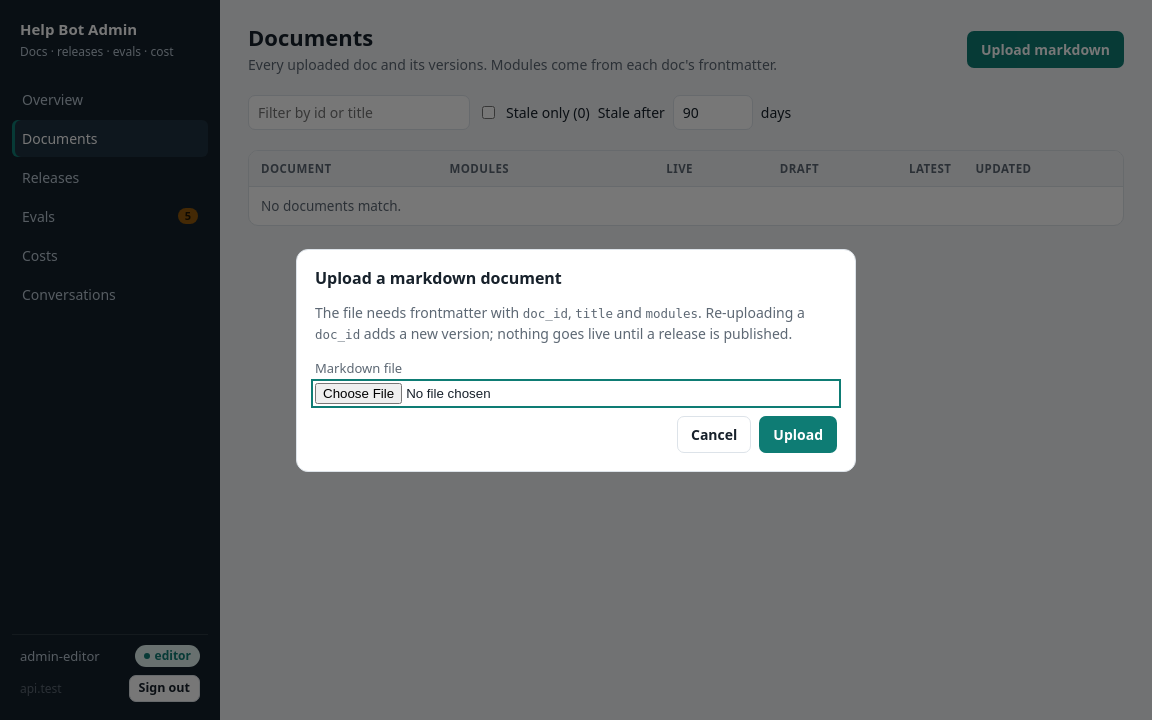
Test: document upload › shows why a version was rejected
This screenshot has width=1152, height=720.
Earlier steps of the test are not shown.
Click the button "Upload".
click(798, 434)  # box [759,416,837,452]
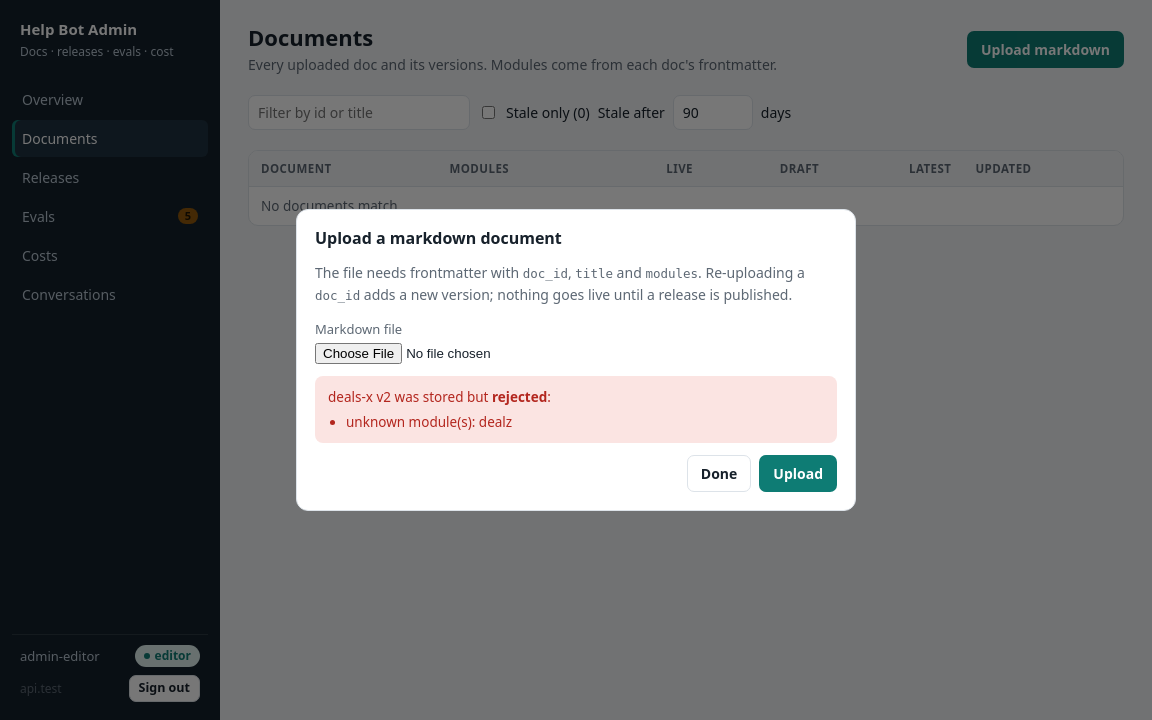
Check: the list item "unknown module(s): dealz" is shown, box [346,412,512,430]
Check: the text "rejected" is shown, box [492,388,547,406]
